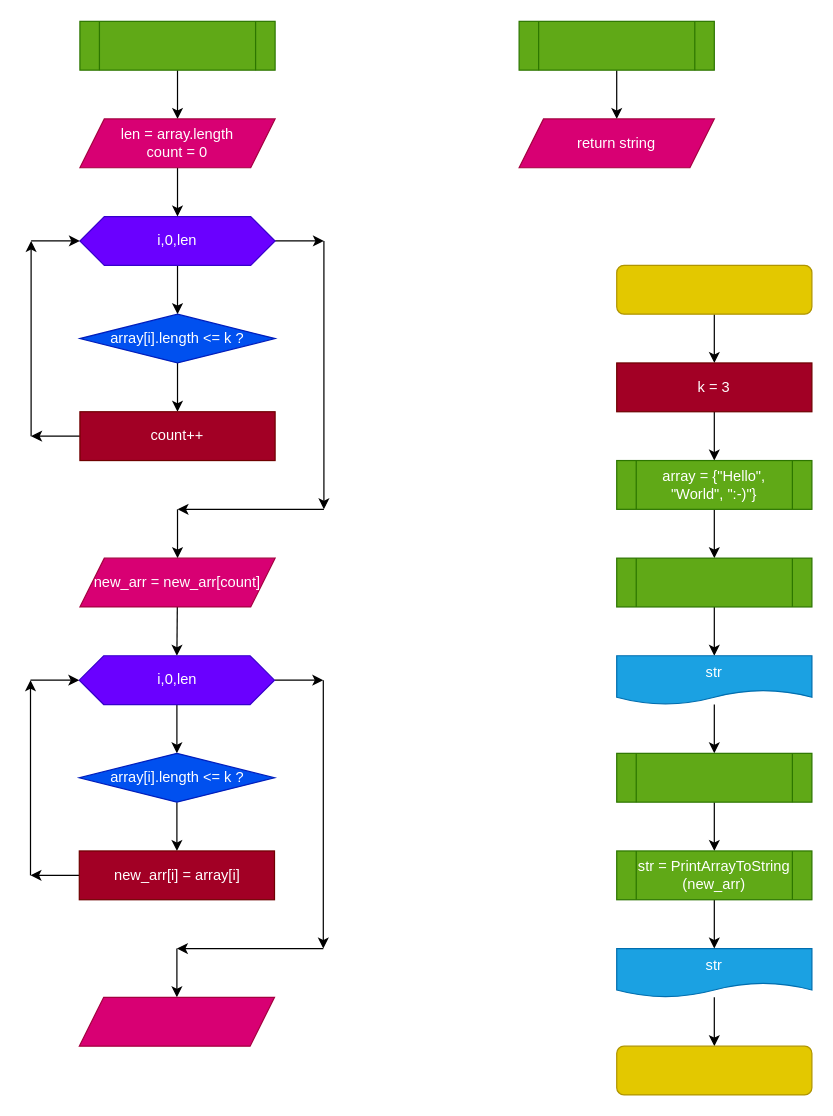
Image size: 833x1116. Some labels were removed from this diagram. Here are the shapes that lost their labels. From the top down, the box of each, then its label:
(79, 20, 275, 70): FindStrArray(array,k)
(518, 20, 714, 70): PrintArrayToString (array)
(615, 264, 812, 314): Begin
(615, 557, 812, 607): str = PrintArrayToString (array)
(615, 752, 812, 802): new_arr = FindStrArray(array, k)
(78, 996, 274, 1046): return new_arr
(615, 1045, 812, 1095): End
